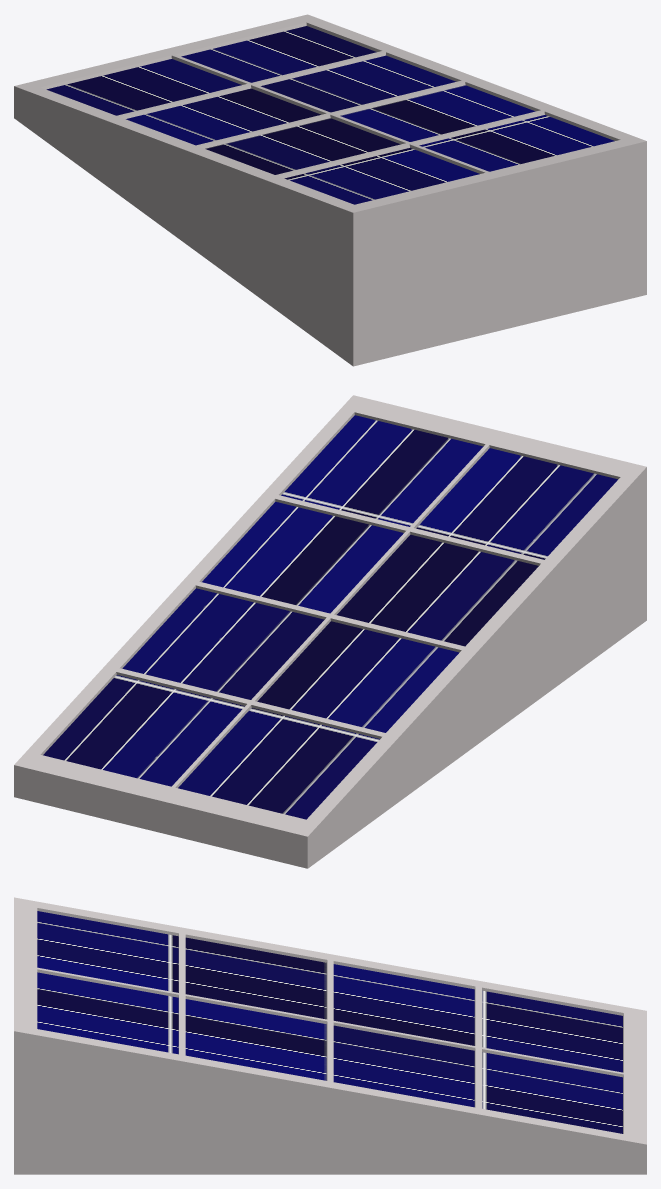
Rendered from solarcell_2.fbx.
3 renders of one model, top to bottom at view 1: azimuth 30°, elevation 25°; view 2: azimuth 150°, elevation 25°; view 3: azimuth 270°, elevation 25°, orthographic. The views are drawn at different scales.
Parts seen in each view (by area): view 1: Cube; view 2: Cube; view 3: Cube.
Boxes of the visible parts, <box> form: Cube: <box>14,14,646,366</box>; Cube: <box>14,395,646,868</box>; Cube: <box>14,897,646,1174</box>.
Size of the model in its own units: 400 by 200 by 800.
Materials: 2 (1 with a texture image).
